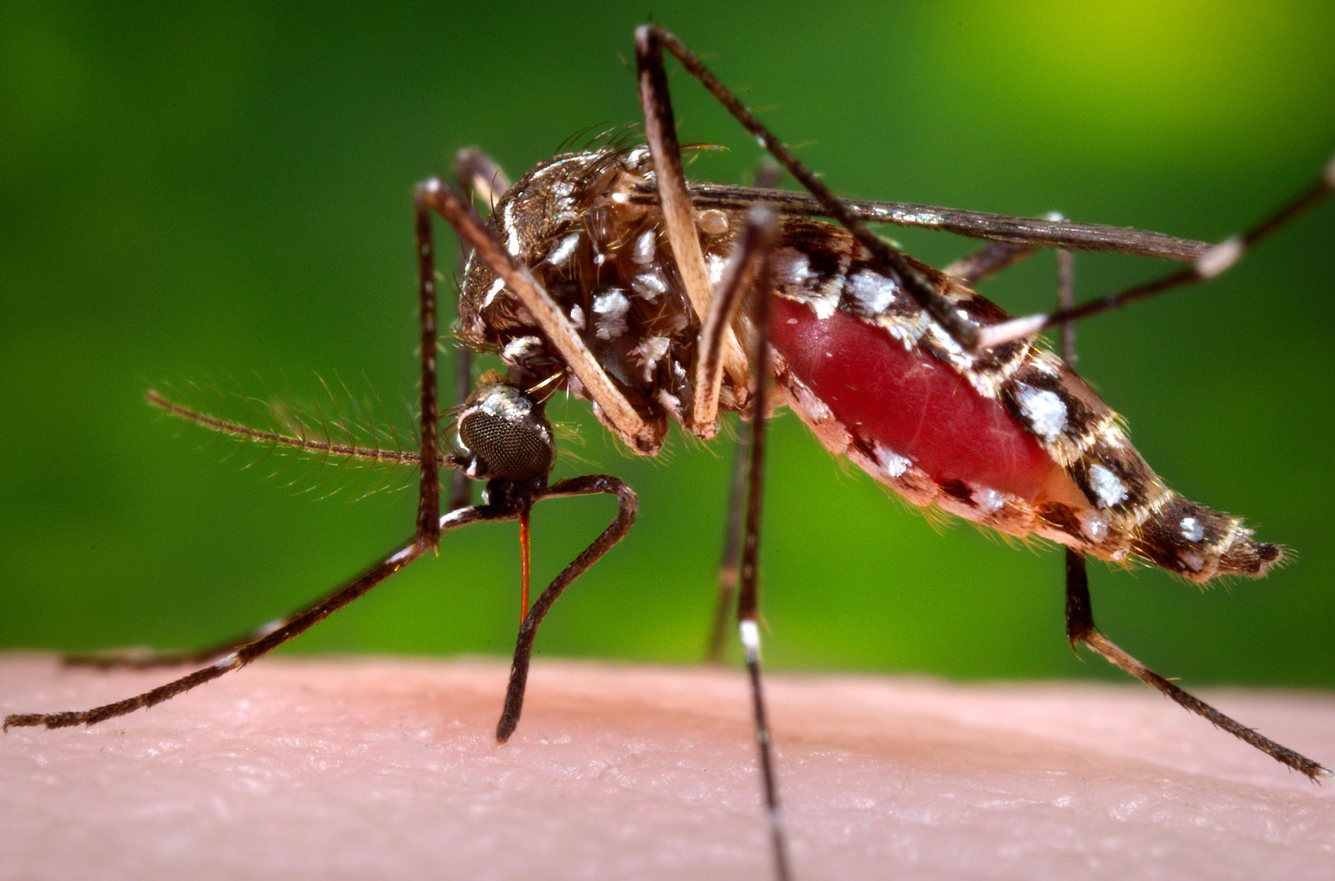insect: (0, 9, 1335, 881)
